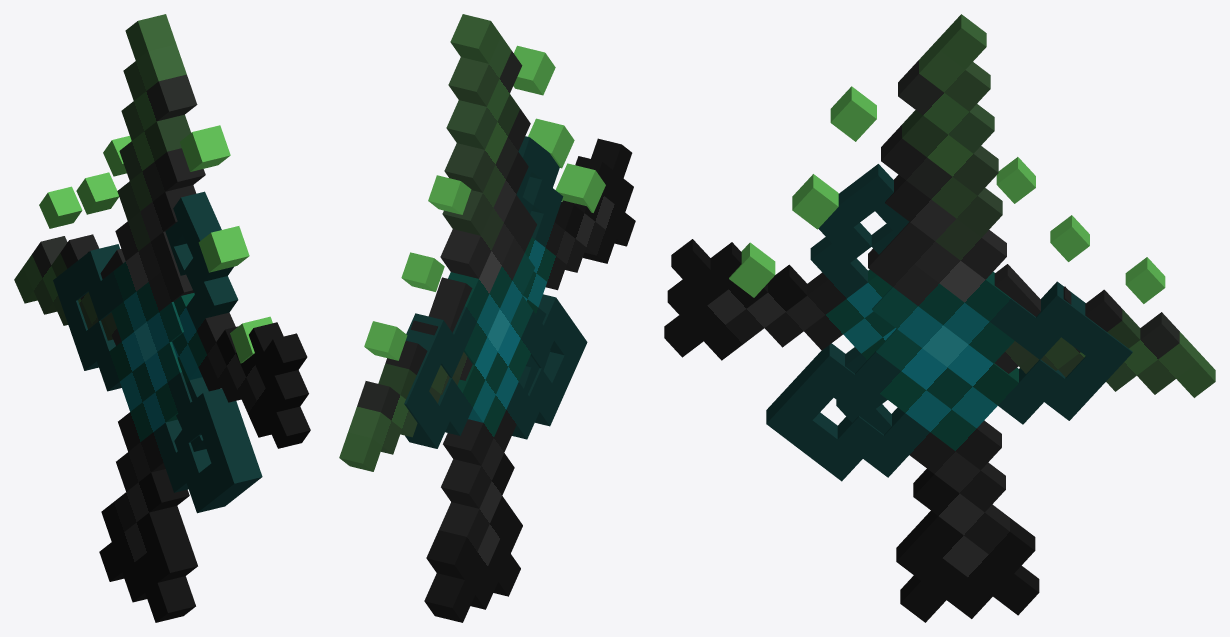
Rendered from myrmex_jungle_venom_katzbalger.glb.
3 renders of one model, left to right at view 1: azimuth 30°, elevation 25°; view 2: azimuth 150°, elevation 25°; view 3: azimuth 270°, elevation 25°, orthographic.
Parts seen in each view (by area): view 1: off__Tool_L, main__Tool_R; view 2: off__Tool_L, main__Tool_R; view 3: off__Tool_L, main__Tool_R.
Part boxes in pixels (x1,y1,x2,y2): off__Tool_L: [53, 14, 272, 622]; main__Tool_R: [14, 135, 310, 451]; off__Tool_L: [404, 14, 605, 622]; main__Tool_R: [339, 136, 635, 471]; off__Tool_L: [729, 14, 1132, 622]; main__Tool_R: [664, 157, 1215, 434].
Bounding box in the file's own units: 0.0625 × 1.25 × 1.05.
1 material, 1 textured.
